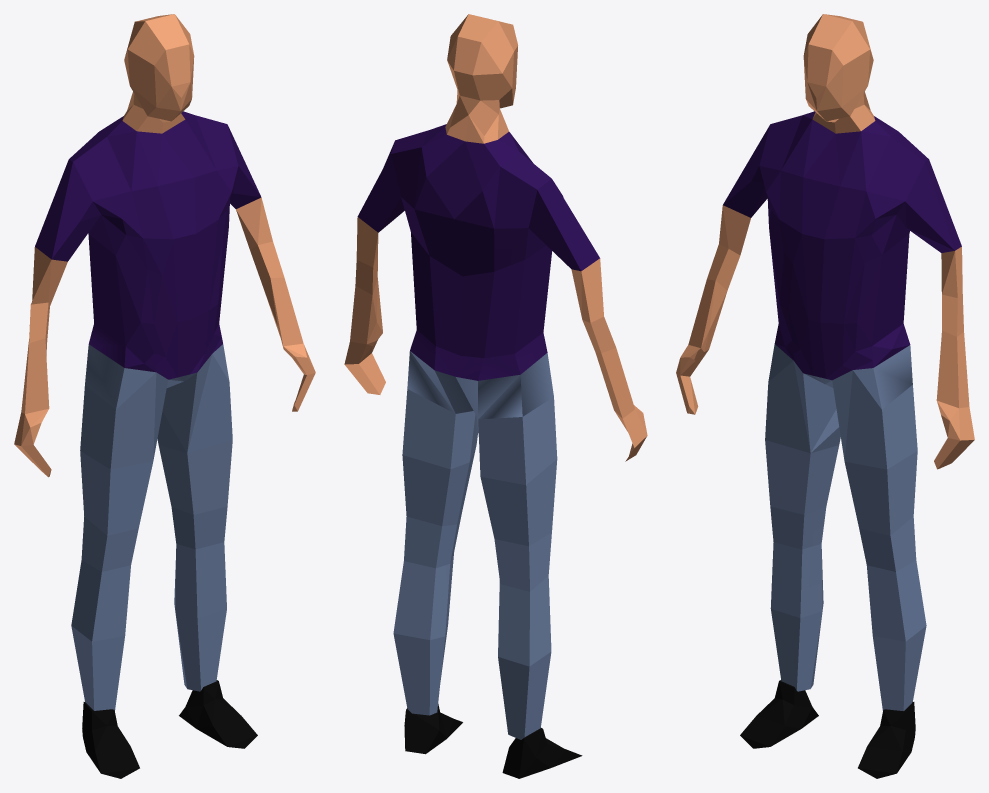
File: character.obj
The picture shows the model from 3 angles, left to right: view 1: azimuth 30°, elevation 25°; view 2: azimuth 150°, elevation 25°; view 3: azimuth 330°, elevation 25°; orthographic projection.
Visible parts, largest first — view 1: Body_Cube.033; view 2: Body_Cube.033; view 3: Body_Cube.033.
Part boxes in pixels (x1,y1,x2,y2): Body_Cube.033: (14,14,315,778); Body_Cube.033: (344,14,647,778); Body_Cube.033: (676,14,974,778).
Size of the model in its own units: 0.7651 by 1.81 by 0.2405.
